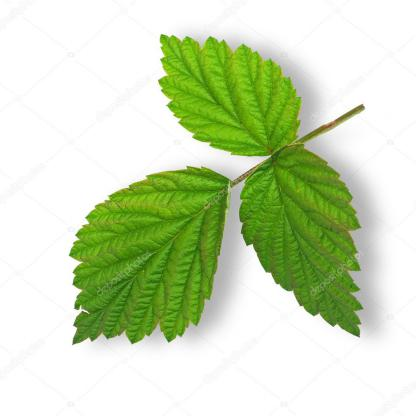raspberry leaf: (67, 164, 231, 349), (239, 145, 363, 339), (155, 31, 301, 156)
